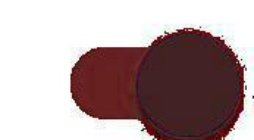Switch: (1, 1, 253, 139)
